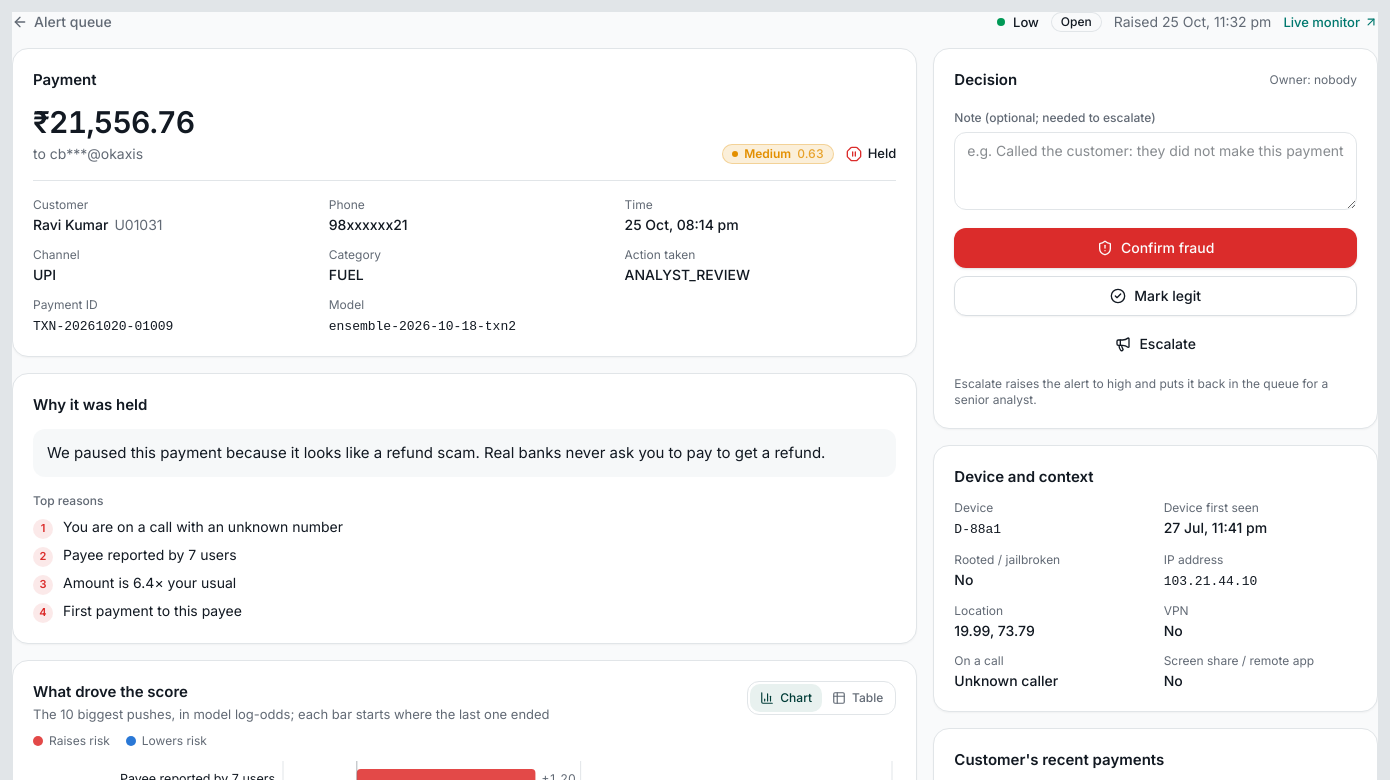
Case Detail (spec 06 §3) › confirm fraud: closed at once, toast, PATCH sent, alert leaves the queue
The image size is (1390, 780).
Type "Customer confirmed by phone" into the text box labelled "Note (optional; needed to escalate)".
click(1156, 170); type("Customer confirmed by phone")  # box left=954, top=132, right=1357, bottom=210
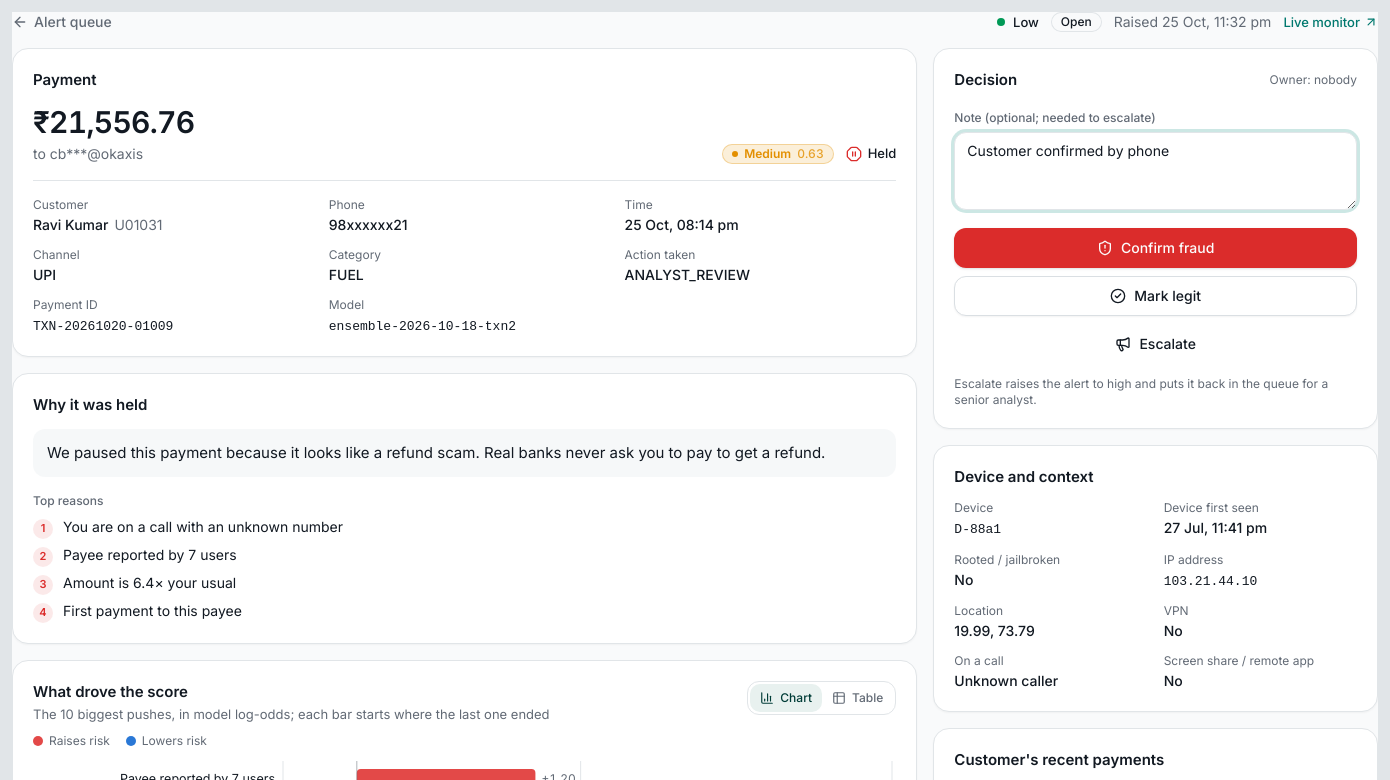
Click the button "Confirm fraud".
click(1156, 248)  # box left=954, top=228, right=1357, bottom=268
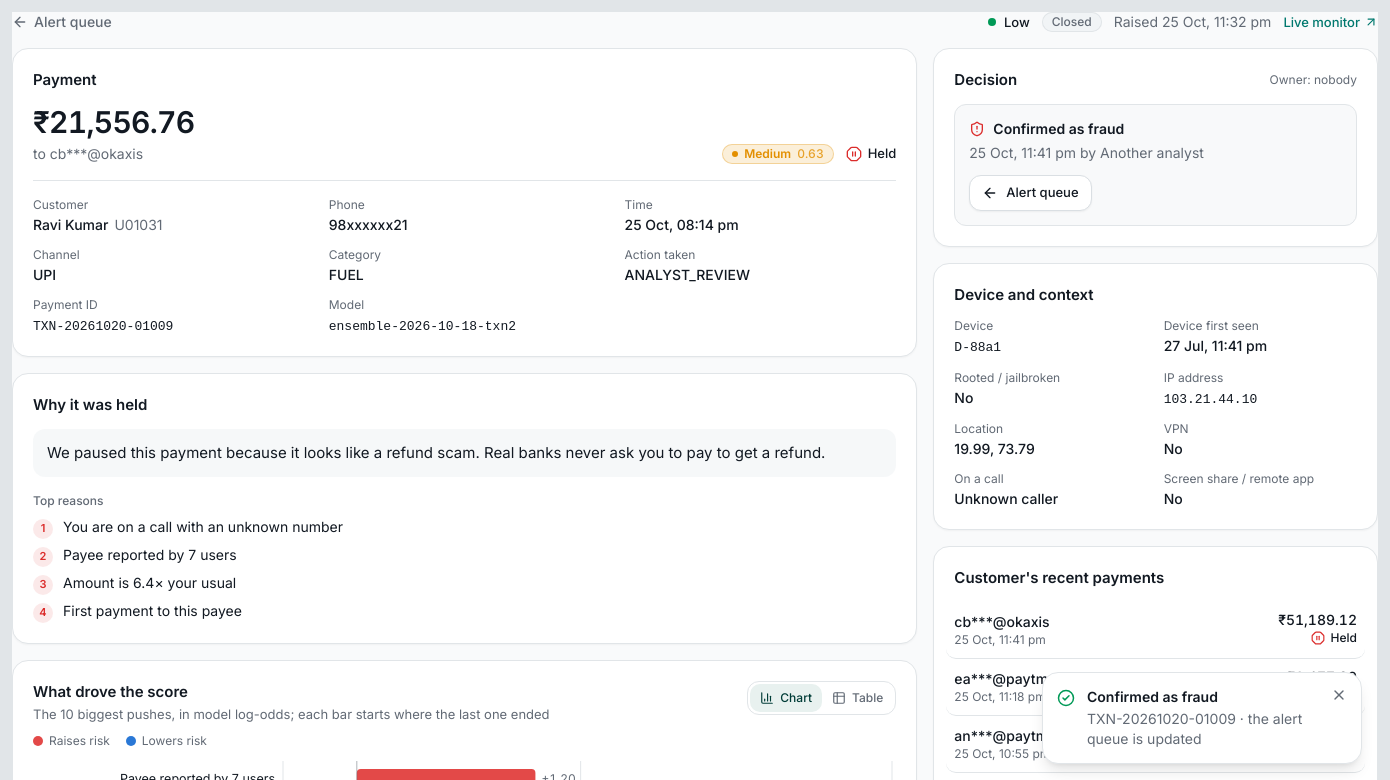
Expected: the text "Confirmed as fraud" is shown, left=969, top=120, right=1124, bottom=136
Expected: the button "Confirm fraud" is gone
